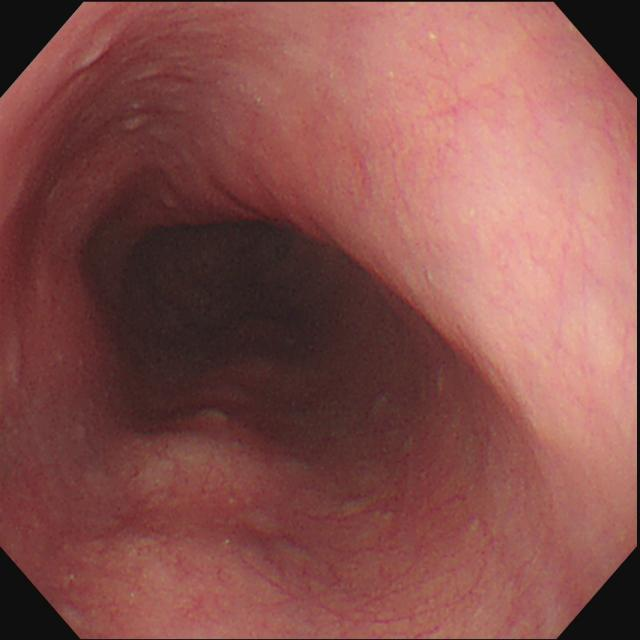A: (107, 388, 293, 593)
E: (105, 174, 317, 363)
